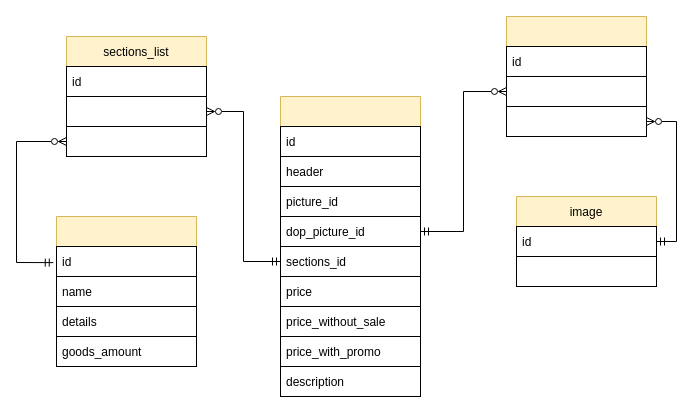
Image size: 693x413. Some labels were removed from this diagram. The box of each missing label's shape, as (x1, y1, x2, y2) in pixels:
dop_picture_list: (506, 16, 646, 136)
goods: (280, 96, 420, 396)
image_id: (506, 106, 646, 136)
path: (516, 256, 656, 286)
poduct_id: (506, 76, 646, 106)
product_id: (66, 96, 206, 126)
section: (56, 216, 196, 366)
section_id: (66, 126, 206, 156)
